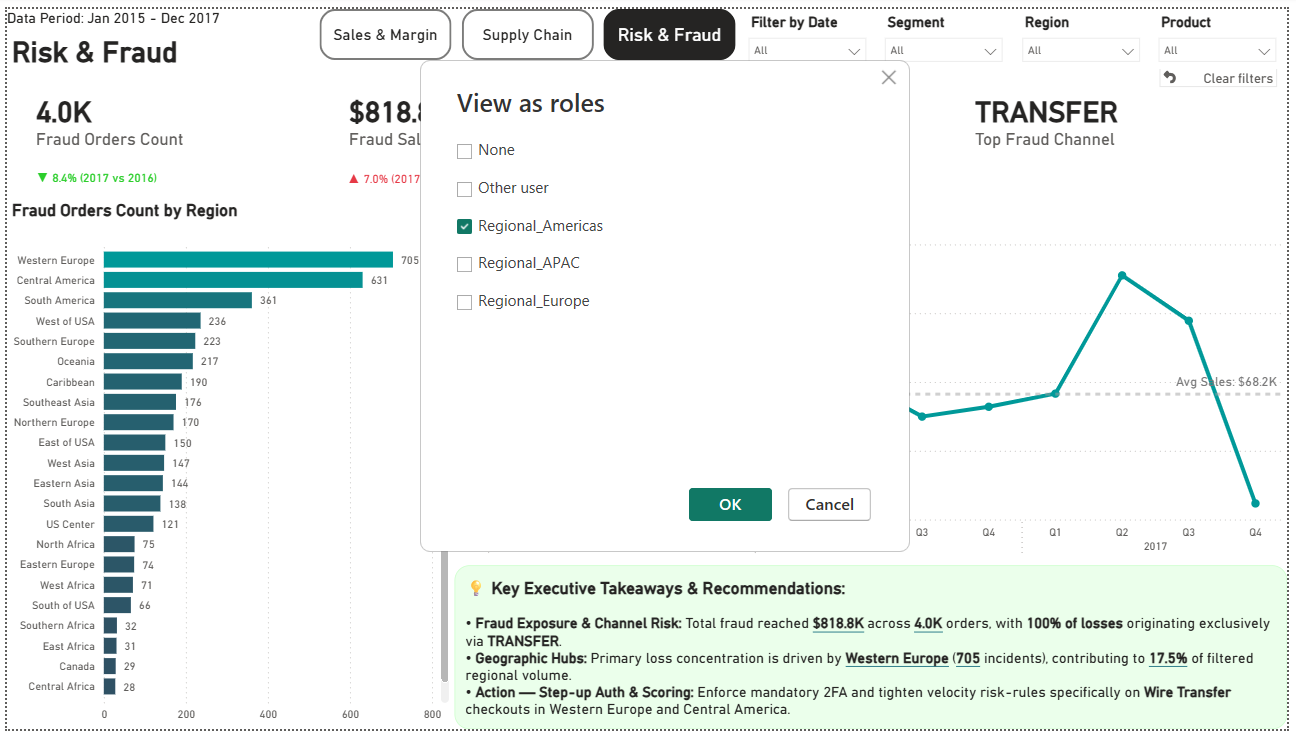

What the dashboard file says about the page in this screenshot:
{"tool":"powerbi","page":{"name":"Risk & Fraud","canvas":[1280,720],"ordinal":2},"visuals":[{"type":"cardVisual","fields":{"Data":["_Measures.Fraud Orders Count","_Measures.Fraud Sales","_Measures.Avg Fraud Order Value","_Measures.Top Fraud Channel"]},"box":[0,60,1280,105.2],"z":0},{"type":"lineChart","fields":{"Y":["_Measures.Fraud Sales"],"Category":["Dim_Calendar.Year","Dim_Calendar.Quarter","Dim_Calendar.Month Name"]},"box":[447.1,191.4,832.9,364.3],"z":1000},{"type":"barChart","title":"Fraud Orders Count by Region","fields":{"Y":["_Measures.Fraud Orders Count"],"Category":["core dim_geography.order_region"]},"box":[0,191.4,447.1,528.6],"z":2000},{"type":"textbox","box":[447.1,555.7,832.9,164.3],"z":3000},{"type":"textbox","box":[0,21,251,46],"z":4000},{"type":"shape","box":[0,0,223.6,22.7],"z":5000},{"type":"actionButton","box":[1152.9,57.6,117.6,20.6],"z":6000},{"type":"slicer","fields":{"Values":["Dim_Calendar.Year","Dim_Calendar.Month Name"]},"box":[731.4,0,137.7,60],"z":7000},{"type":"cardVisual","fields":{"Data":["_Measures.Fraud Orders Count YoY Formatted"]},"box":[0,145,200,46],"z":8000},{"type":"cardVisual","fields":{"Data":["_Measures.Fraud Sales YoY Formatted"]},"box":[311.4,145.7,200,46],"z":9000},{"type":"cardVisual","fields":{"Data":["_Measures.Avg Fraud Order Value YoY Formatted"]},"box":[625.7,145.7,200,46],"z":10000},{"type":"slicer","fields":{"Values":["Dim_Geography.order_region"]},"box":[1004.5,0,137.7,60],"z":11000},{"type":"pageNavigator","box":[312.9,0,418.3,51.7],"z":12000},{"type":"slicer","fields":{"Values":["Dim_Customers.segment"]},"box":[867.2,0,137.7,60],"z":13000},{"type":"slicer","fields":{"Values":["Dim_Products.category_name"]},"box":[1141.7,0,137.7,60],"z":14000}]}

Visuals, with their boxes in screenshot pixels (x1, y1, x2, y2), scaled from the page's 1280x720 canvas onto the 1296x737 screenshot:
cardVisual - _Measures.Fraud Orders Count x _Measures.Fraud Sales: bbox(0, 61, 1295, 169)
lineChart - _Measures.Fraud Sales x Dim_Calendar.Year: bbox(453, 196, 1295, 569)
"Fraud Orders Count by Region" barChart: bbox(0, 196, 453, 736)
textbox: bbox(453, 569, 1295, 736)
textbox: bbox(0, 21, 254, 69)
shape: bbox(0, 0, 226, 23)
actionButton: bbox(1167, 59, 1286, 80)
slicer - Dim_Calendar.Year x Dim_Calendar.Month Name: bbox(741, 0, 880, 61)
cardVisual - _Measures.Fraud Orders Count YoY Formatted: bbox(0, 148, 202, 196)
cardVisual - _Measures.Fraud Sales YoY Formatted: bbox(315, 149, 518, 196)
cardVisual - _Measures.Avg Fraud Order Value YoY Formatted: bbox(634, 149, 836, 196)
slicer - Dim_Geography.order_region: bbox(1017, 0, 1156, 61)
pageNavigator: bbox(317, 0, 740, 53)
slicer - Dim_Customers.segment: bbox(878, 0, 1017, 61)
slicer - Dim_Products.category_name: bbox(1156, 0, 1295, 61)
